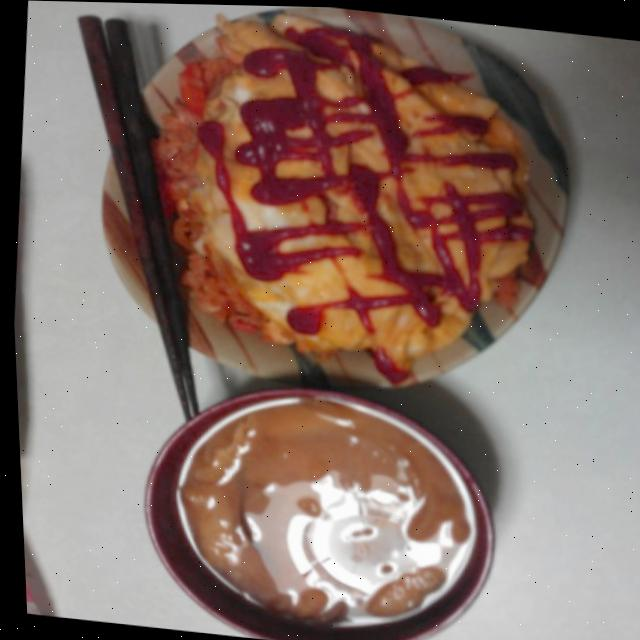汤锅炖物: (111, 346, 461, 640)
